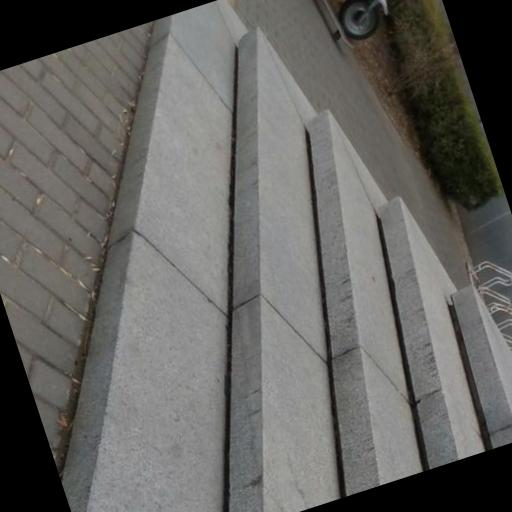stairs: (62, 0, 483, 511)
